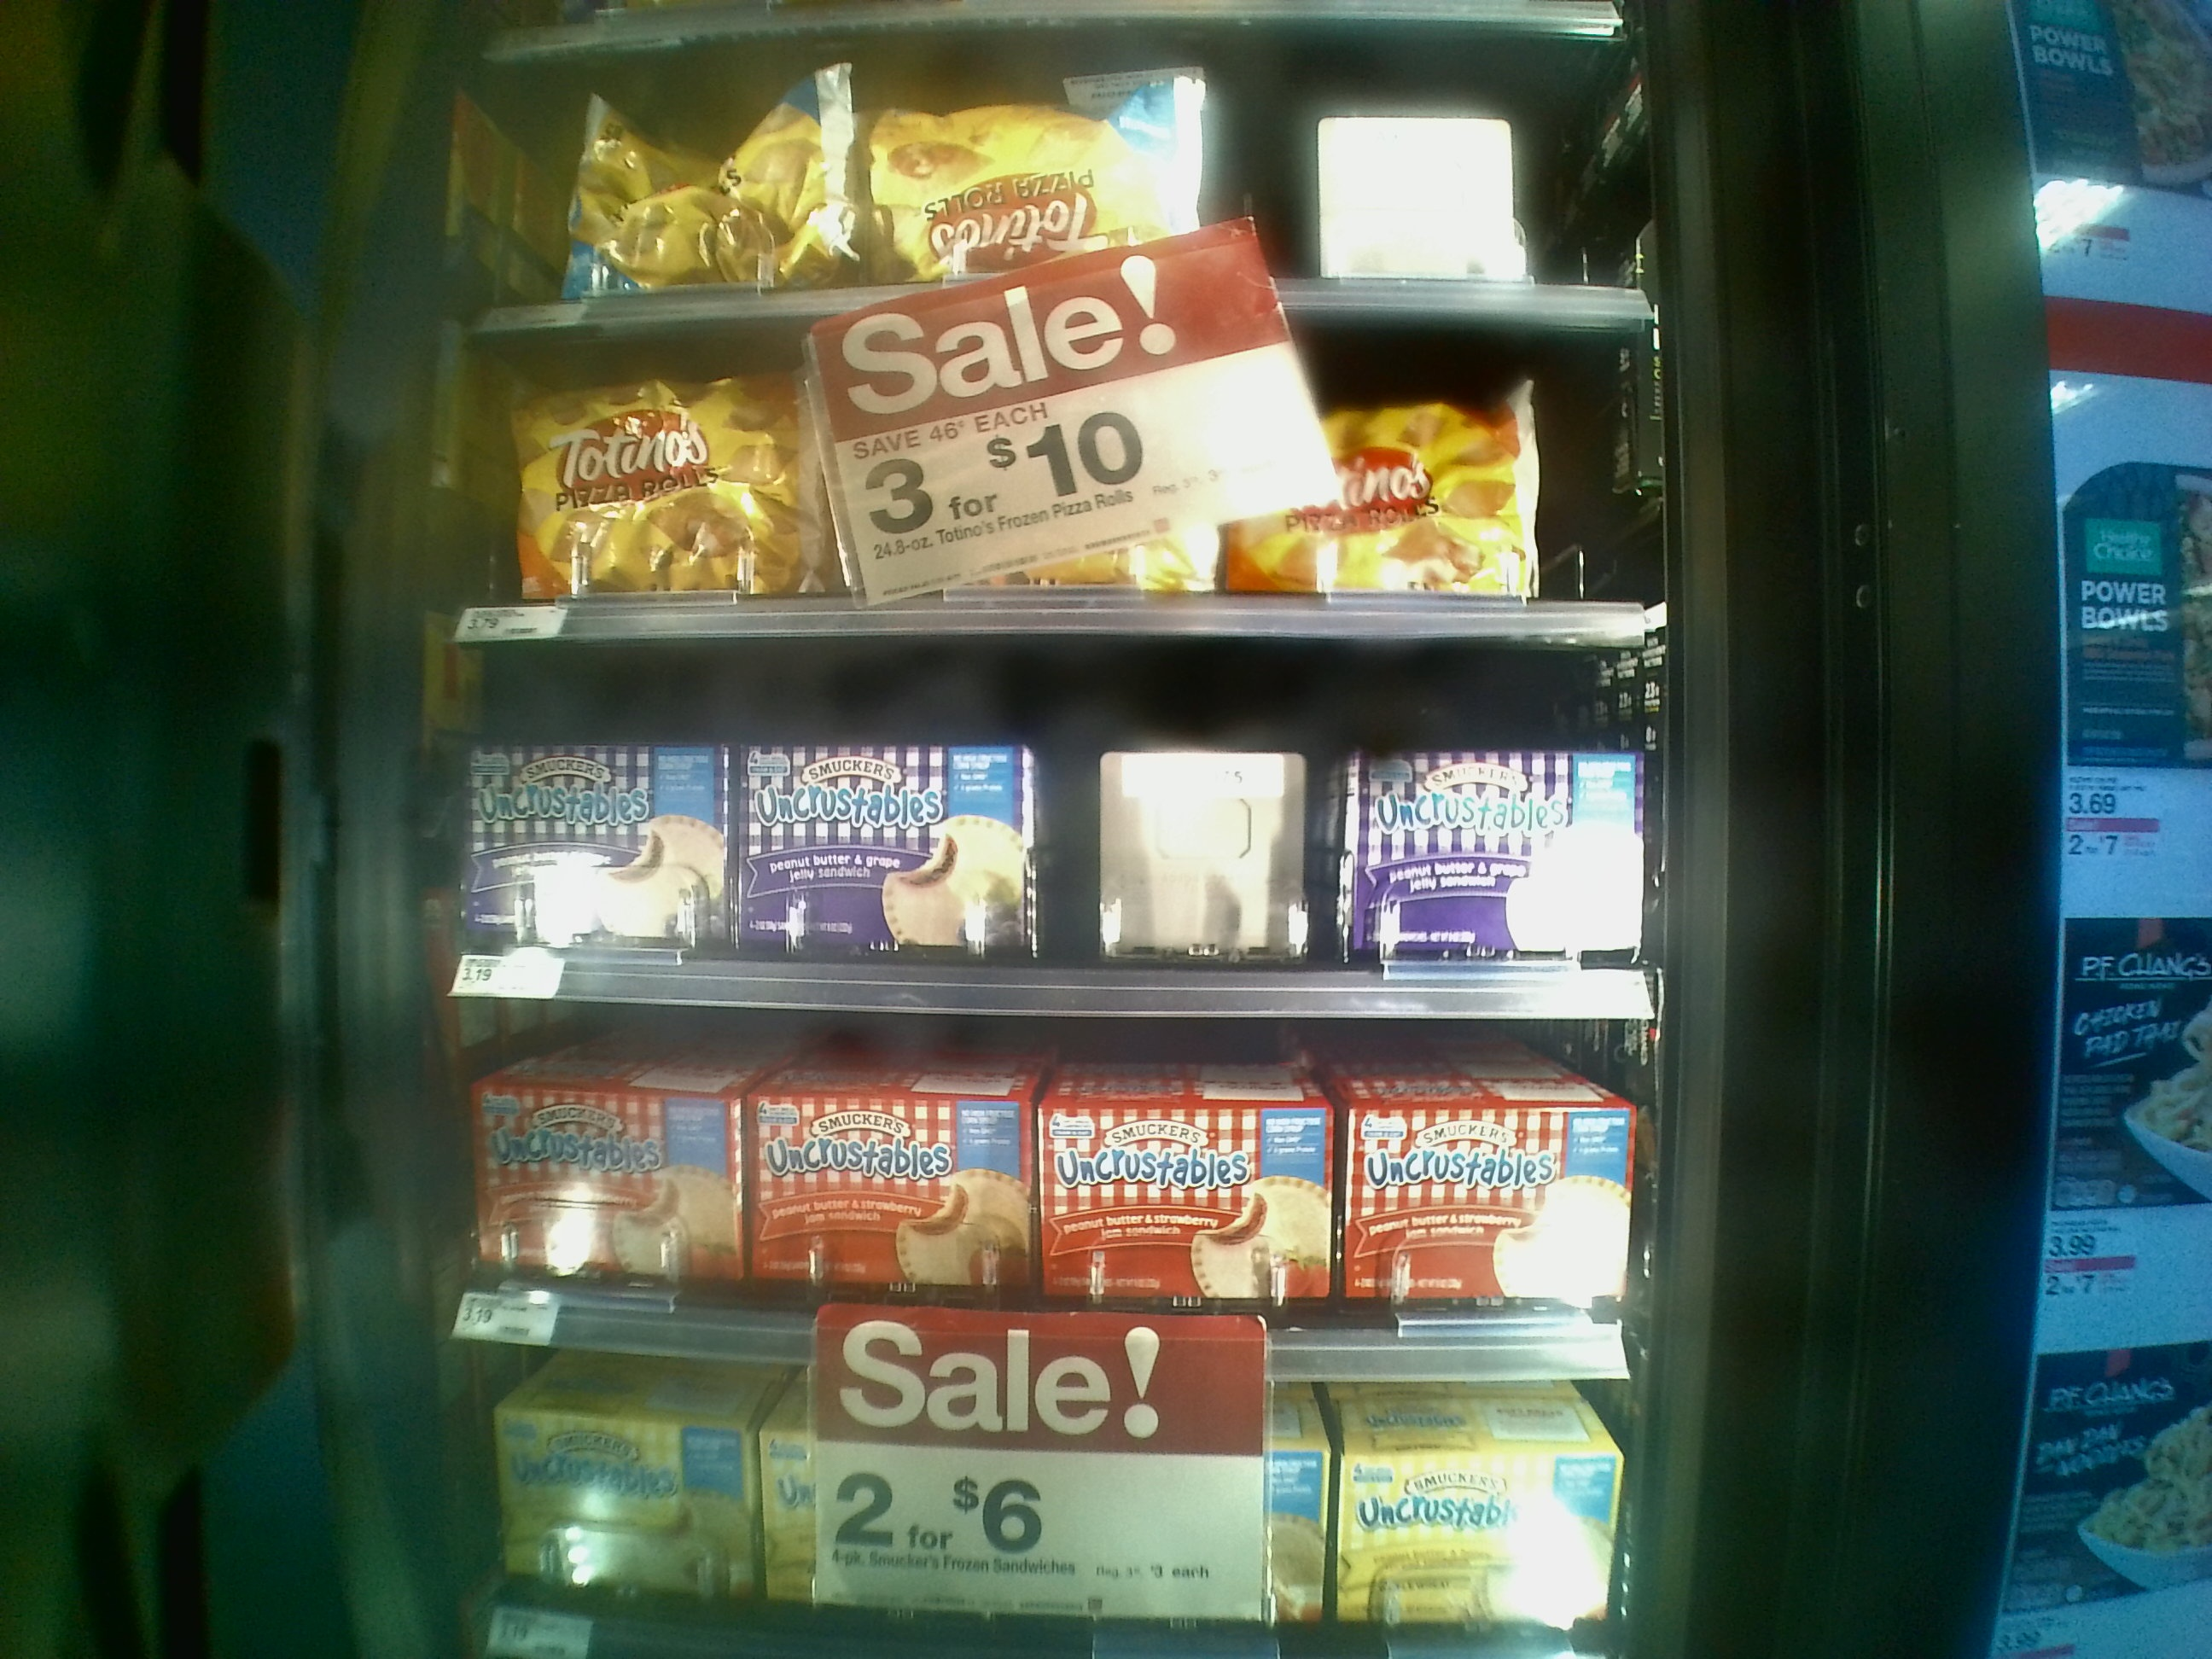shelf: (418, 1004, 1625, 1378), (432, 662, 1656, 1019), (455, 347, 1644, 650), (472, 44, 1646, 329)
